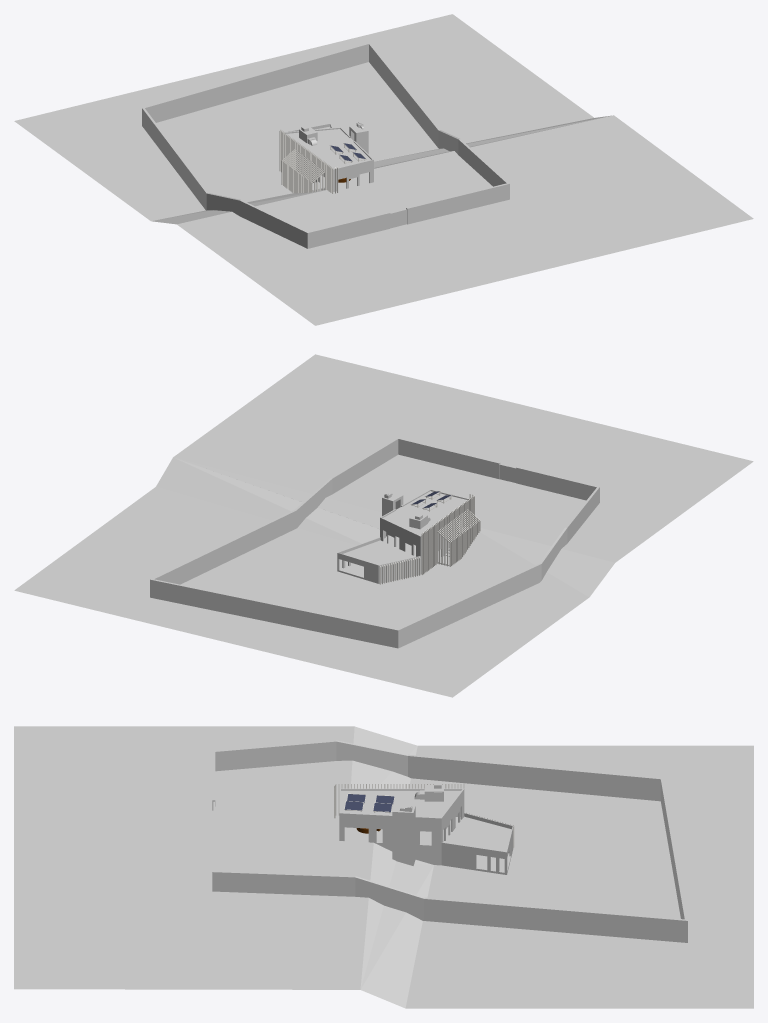
File: DataCenterMap.obj
3 views of the same model, one above another, from view 1: azimuth 30°, elevation 25°; view 2: azimuth 150°, elevation 25°; view 3: azimuth 270°, elevation 25° (orthographic). The views are drawn at different scales.
Parts seen in each view (by area): view 1: Mesh5 Ground1 Model, Mesh90 Barriere1 Model, Mesh20 Toit1 Model, Mesh84 _Etage1 Model; view 2: Mesh5 Ground1 Model, Mesh90 Barriere1 Model, Mesh84 _Etage1 Model, Mesh20 Toit1 Model, Mesh4 RDC1 Model; view 3: Mesh5 Ground1 Model, Mesh90 Barriere1 Model, Mesh84 _Etage1 Model, Mesh20 Toit1 Model, Mesh4 RDC1 Model, Mesh17 Ascenseur1 Model.
Part boxes in pixels (x1,y1,x2,y2): Mesh5 Ground1 Model: [14, 14, 753, 325]; Mesh90 Barriere1 Model: [142, 42, 509, 248]; Mesh20 Toit1 Model: [283, 126, 373, 171]; Mesh84 _Etage1 Model: [285, 123, 373, 191]; Mesh5 Ground1 Model: [14, 354, 753, 697]; Mesh90 Barriere1 Model: [150, 437, 599, 648]; Mesh84 _Etage1 Model: [337, 511, 465, 569]; Mesh20 Toit1 Model: [380, 489, 469, 538]; Mesh4 RDC1 Model: [337, 534, 460, 583]; Mesh5 Ground1 Model: [14, 726, 753, 1008]; Mesh90 Barriere1 Model: [212, 740, 687, 942]; Mesh84 _Etage1 Model: [339, 792, 513, 856]; Mesh20 Toit1 Model: [339, 782, 464, 821]; Mesh4 RDC1 Model: [378, 832, 513, 874]; Mesh17 Ascenseur1 Model: [392, 805, 415, 865].
Size of what is drawn, in the model's own units: 204 by 32.87 by 243.
Materials: 4 (1 with a texture image).
